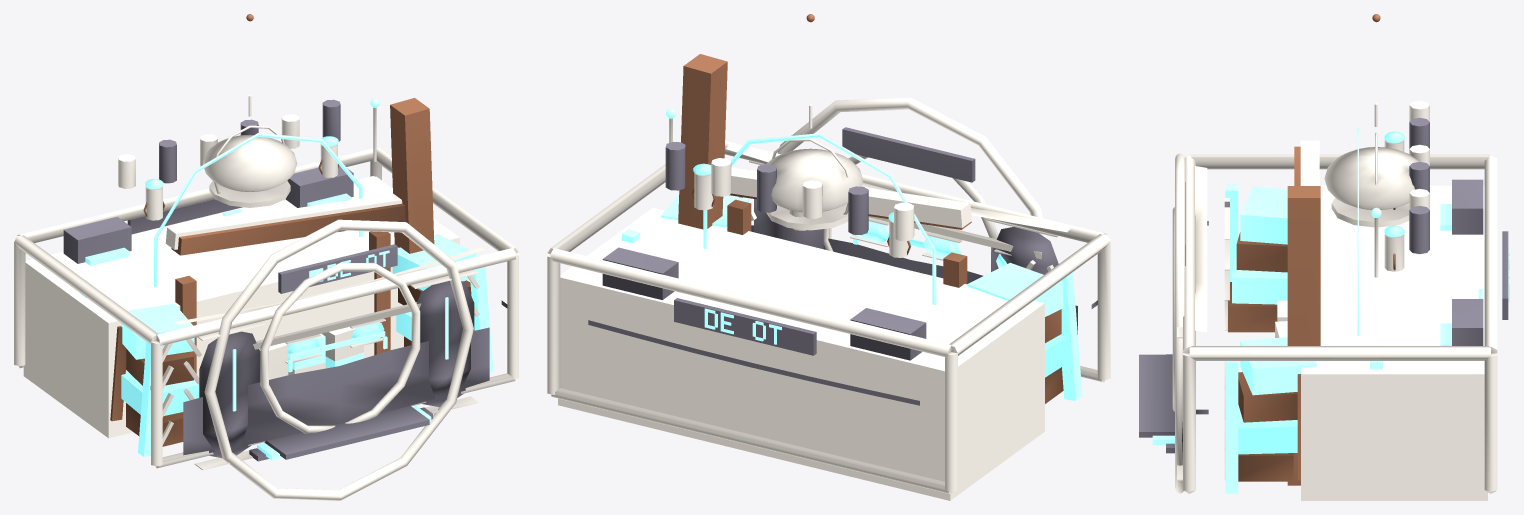
File: depot.glb
3 views of the same model, side by side, from view 1: azimuth 30°, elevation 25°; view 2: azimuth 150°, elevation 25°; view 3: azimuth 270°, elevation 25° (orthographic). The views are drawn at different scales.
Visible parts, largest first — view 1: depot:near:surface:1, depot:near:surface:2, depot:far:surface:0, depot:near:surface:3, depot:near:surface:0, depot:city-identity:cargo-crane; view 2: depot:far:surface:0, depot:near:surface:1, depot:near:surface:2, depot:near:surface:3, depot:near:surface:0; view 3: depot:far:surface:0, depot:near:surface:1, depot:near:surface:3, depot:near:surface:0, depot:near:surface:2.
Boxes of the visible parts, x1=… form: depot:near:surface:1: x1=14, y1=95, x2=518, y2=500; depot:near:surface:2: x1=63, y1=99, x2=507, y2=461; depot:far:surface:0: x1=23, y1=176, x2=459, y2=438; depot:near:surface:3: x1=80, y1=98, x2=493, y2=460; depot:near:surface:0: x1=110, y1=14, x2=471, y2=446; depot:city-identity:cargo-crane: x1=171, y1=203, x2=405, y2=255; depot:far:surface:0: x1=558, y1=167, x2=1044, y2=500; depot:near:surface:1: x1=547, y1=97, x2=1110, y2=494; depot:near:surface:2: x1=588, y1=127, x2=1097, y2=405; depot:near:surface:3: x1=621, y1=108, x2=1082, y2=400; depot:near:surface:0: x1=678, y1=14, x2=1063, y2=403; depot:far:surface:0: x1=1300, y1=140, x2=1487, y2=500; depot:near:surface:1: x1=1172, y1=100, x2=1497, y2=493; depot:near:surface:3: x1=1152, y1=128, x2=1509, y2=493; depot:near:surface:0: x1=1228, y1=14, x2=1395, y2=485; depot:near:surface:2: x1=1139, y1=117, x2=1508, y2=458.
Bounding box in the file's own units: 17.07 × 18.68 × 13.53.
